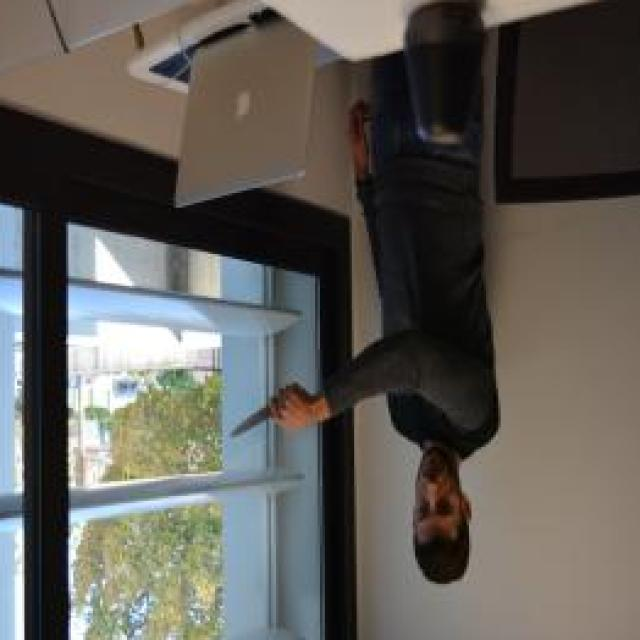knife: (225, 398, 281, 442)
